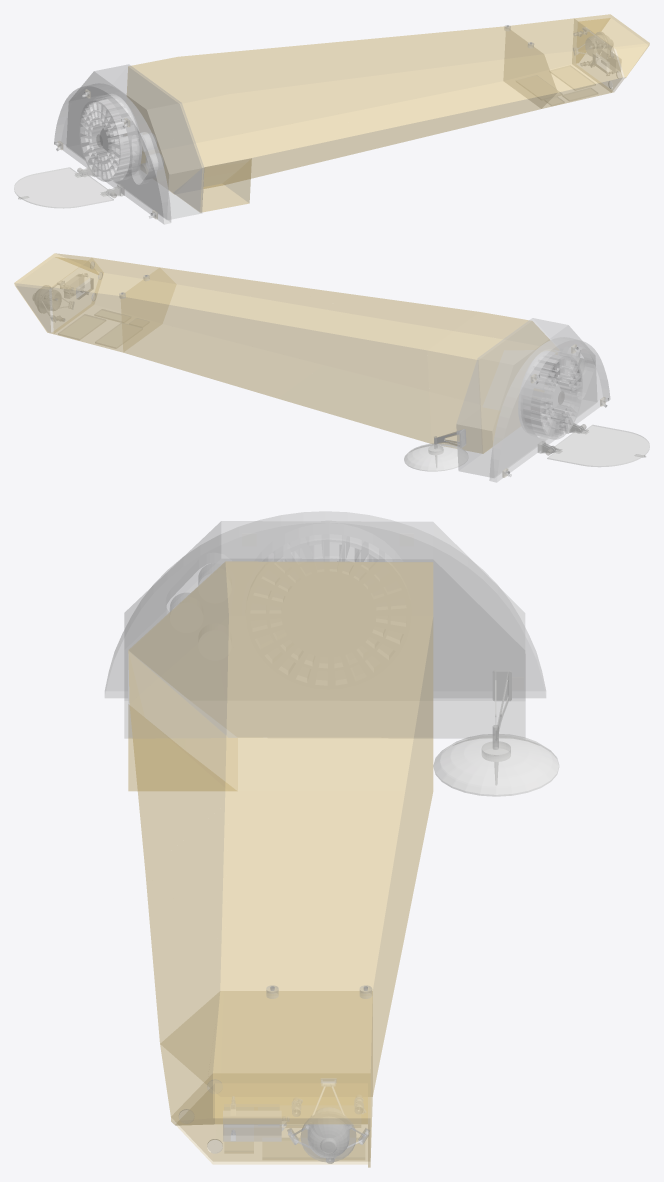
Rendered from Constellation-X.glb.
3 renders of one model, top to bottom at view 1: azimuth 30°, elevation 25°; view 2: azimuth 150°, elevation 25°; view 3: azimuth 270°, elevation 25°, orthographic. The views are drawn at different scales.
Visible parts, largest first — view 1: mesh_0_38, mesh_0_37, mesh_0_41, mesh_0_40, mesh_0_25, mesh_0_30, mesh_0_32, mesh_0_33, mesh_0_21, mesh_0_28, mesh_0_24, mesh_0_23 (+24 smaller); view 2: mesh_0_38, mesh_0_37, mesh_0_44, mesh_0_43, mesh_0_33, mesh_0_30, mesh_0_32, mesh_0_21, mesh_0_25, mesh_0_28, mesh_0_24, mesh_0_23 (+20 smaller); view 3: mesh_0_22, mesh_0_30, mesh_0_28, mesh_0_33, mesh_0_21, mesh_0_24, mesh_0_41, mesh_0_25, mesh_0_44, mesh_0_40, mesh_0_36, mesh_0_31 (+21 smaller).
Boxes of the visible parts, left/top/right/bottom form: mesh_0_38: left=176, top=42, right=341, bottom=142; mesh_0_37: left=339, top=27, right=504, bottom=113; mesh_0_41: left=229, top=74, right=403, bottom=157; mesh_0_40: left=387, top=54, right=556, bottom=124; mesh_0_25: left=127, top=29, right=556, bottom=193; mesh_0_30: left=179, top=42, right=385, bottom=93; mesh_0_32: left=340, top=82, right=539, bottom=146; mesh_0_33: left=196, top=115, right=381, bottom=177; mesh_0_21: left=82, top=64, right=203, bottom=219; mesh_0_28: left=343, top=27, right=542, bottom=73; mesh_0_24: left=54, top=84, right=170, bottom=223; mesh_0_23: left=54, top=83, right=170, bottom=224; mesh_0_38: left=274, top=324, right=431, bottom=443; mesh_0_37: left=121, top=296, right=276, bottom=397; mesh_0_44: left=324, top=313, right=501, bottom=399; mesh_0_43: left=163, top=285, right=340, bottom=363; mesh_0_33: left=278, top=365, right=463, bottom=443; mesh_0_30: left=275, top=290, right=478, bottom=349; mesh_0_32: left=124, top=324, right=321, bottom=397; mesh_0_21: left=456, top=318, right=583, bottom=477; mesh_0_25: left=121, top=268, right=549, bottom=452; mesh_0_28: left=122, top=268, right=318, bottom=322; mesh_0_24: left=490, top=340, right=609, bottom=481; mesh_0_23: left=489, top=337, right=609, bottom=482; mesh_0_22: left=124, top=521, right=525, bottom=738; mesh_0_30: left=225, top=616, right=432, bottom=803; mesh_0_28: left=220, top=804, right=402, bottom=990; mesh_0_33: left=225, top=792, right=432, bottom=943; mesh_0_21: left=124, top=521, right=524, bottom=737; mesh_0_24: left=105, top=512, right=545, bottom=697; mesh_0_41: left=130, top=617, right=228, bottom=872; mesh_0_25: left=161, top=991, right=372, bottom=1096; mesh_0_44: left=130, top=705, right=228, bottom=943; mesh_0_40: left=146, top=804, right=224, bottom=1042; mesh_0_36: left=213, top=991, right=372, bottom=1072; mesh_0_31: left=226, top=562, right=432, bottom=615.
Bounding box in the file's own units: 500 × 81.78 × 163.
